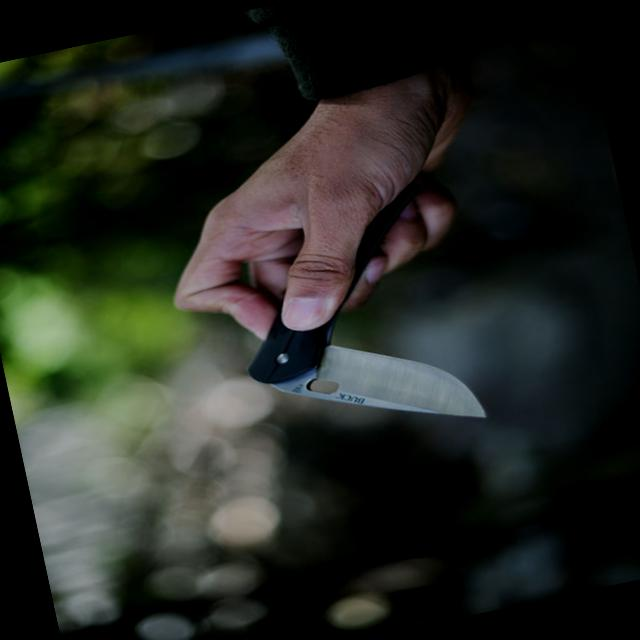knife: (210, 231, 511, 478)
